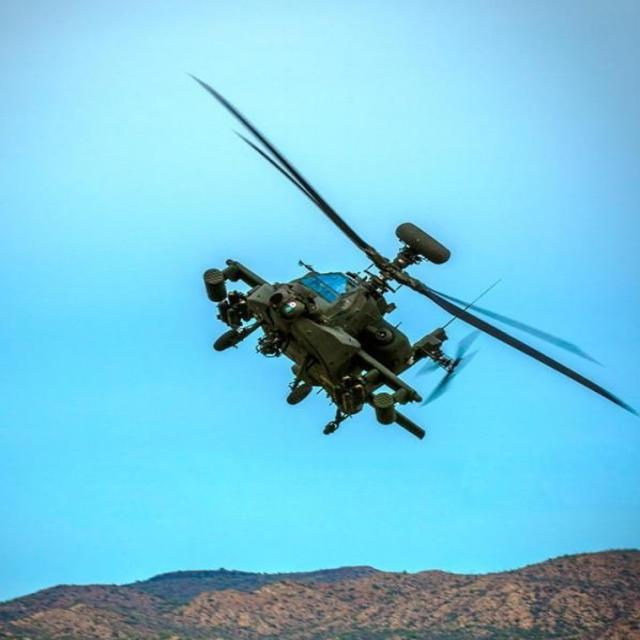MIL_HELO: (155, 58, 640, 451)
